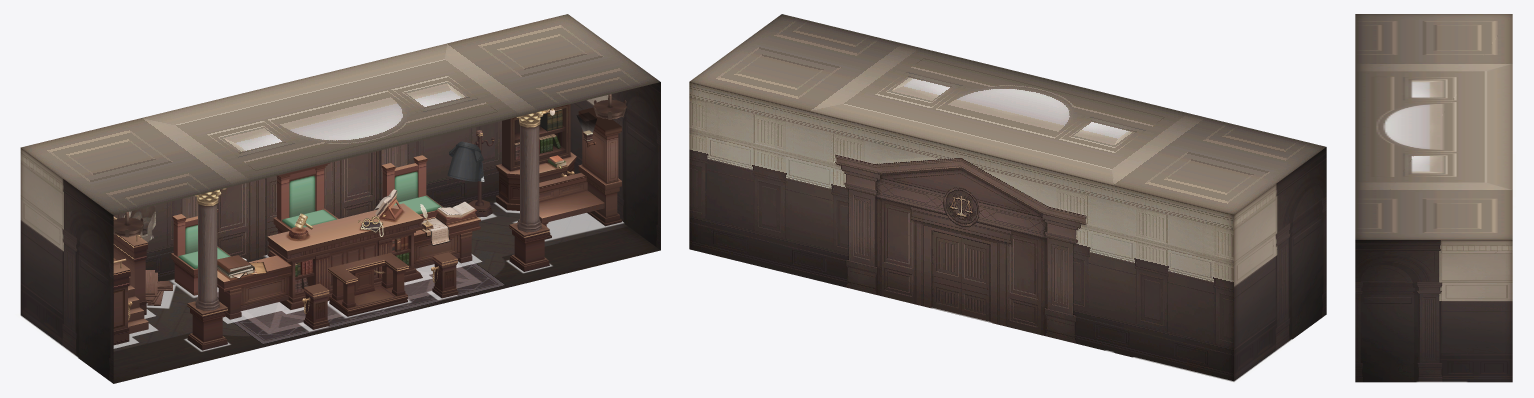
File: court.glb
3 renders of one model, left to right at view 1: azimuth 30°, elevation 25°; view 2: azimuth 150°, elevation 25°; view 3: azimuth 270°, elevation 25°, orthographic. The views are drawn at different scales.
Parts seen in each view (by area): view 1: ROOM_room, ROOM_floor, furni_court_table_01, furni_court_auditorium_01, furni_court_carpet_01, furni_court_bookcase_01, furni_court_column_01, furni_court_column_01.001, furni_court_speaker_01, furni_court_ladder_01, furni_court_mainChair_01, furni_court_assistantChair_01 (+14 smaller); view 2: ROOM_room, ROOM_LDoor, shadow_01; view 3: ROOM_room, ROOM_RDoor, shadow_01.
Boxes of the visible parts, x1,y1,x2,y2 form: ROOM_room: (20,14,660,383); ROOM_floor: (113,200,660,383); furni_court_table_01: (217,189,480,319); furni_court_auditorium_01: (518,107,621,239); furni_court_carpet_01: (196,261,505,344); furni_court_bookcase_01: (496,104,576,210); furni_court_column_01: (187,188,227,350); furni_court_column_01.001: (509,109,549,271); furni_court_speaker_01: (328,253,408,316); furni_court_ladder_01: (113,216,148,345); furni_court_mainChair_01: (267,163,338,256); furni_court_assistantChair_01: (381,155,443,219); ROOM_room: (689,14,1326,381); ROOM_LDoor: (1294,248,1312,337); shadow_01: (1132,339,1295,383); ROOM_room: (1355,14,1512,382); ROOM_RDoor: (1378,317,1410,382); shadow_01: (1512,154,1516,197).
Bounding box in the file's own units: 7.62 × 2.2 × 2.3.
6 materials, 6 textured.
